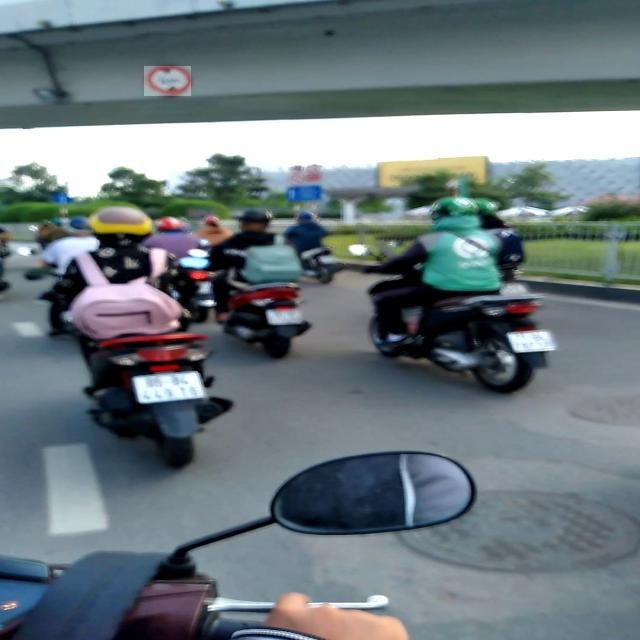bien_cam: (144, 66, 191, 96)
